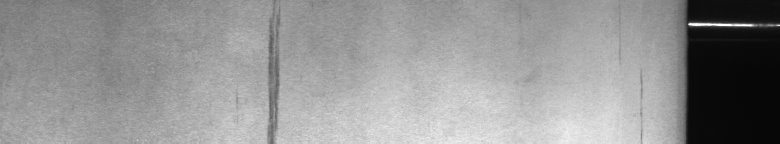hd: (236, 4, 286, 136)
